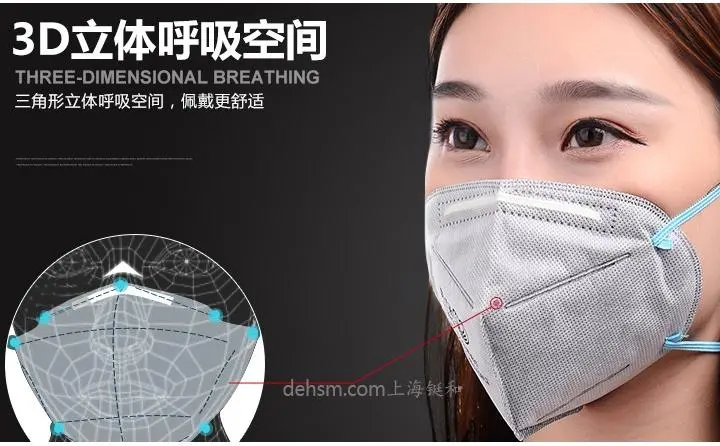withmask: (424, 7, 720, 441)
